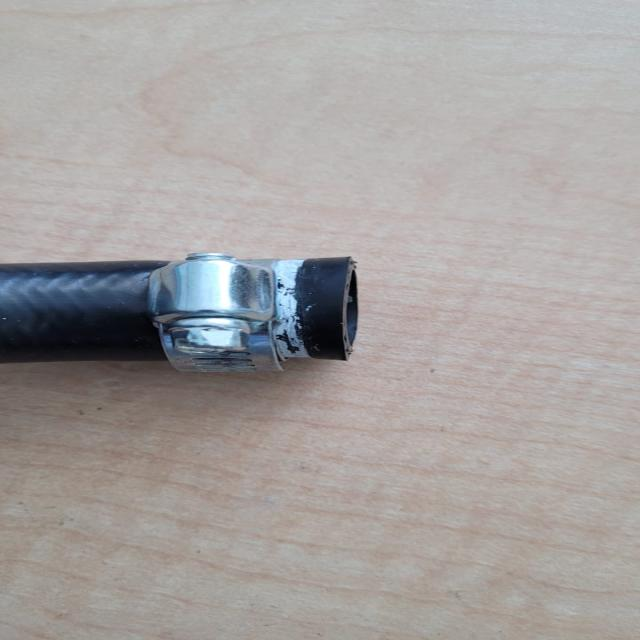clamp: (146, 251, 284, 375)
pipe: (276, 258, 357, 360)
